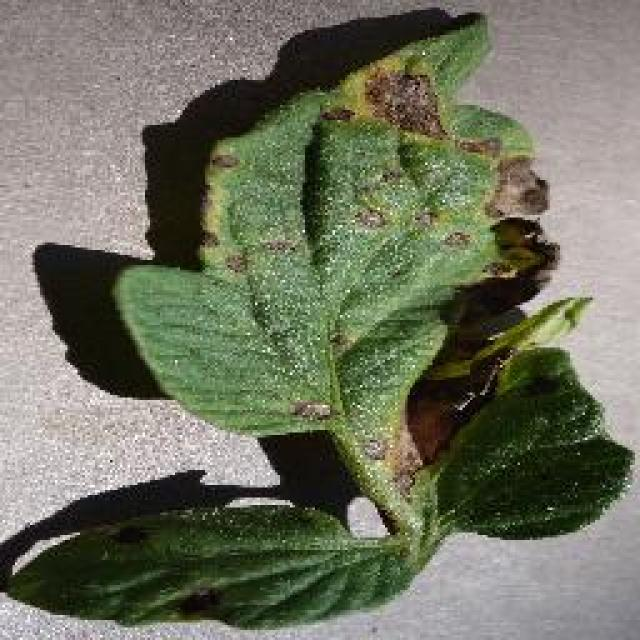leaf blight: (5, 18, 630, 627)
